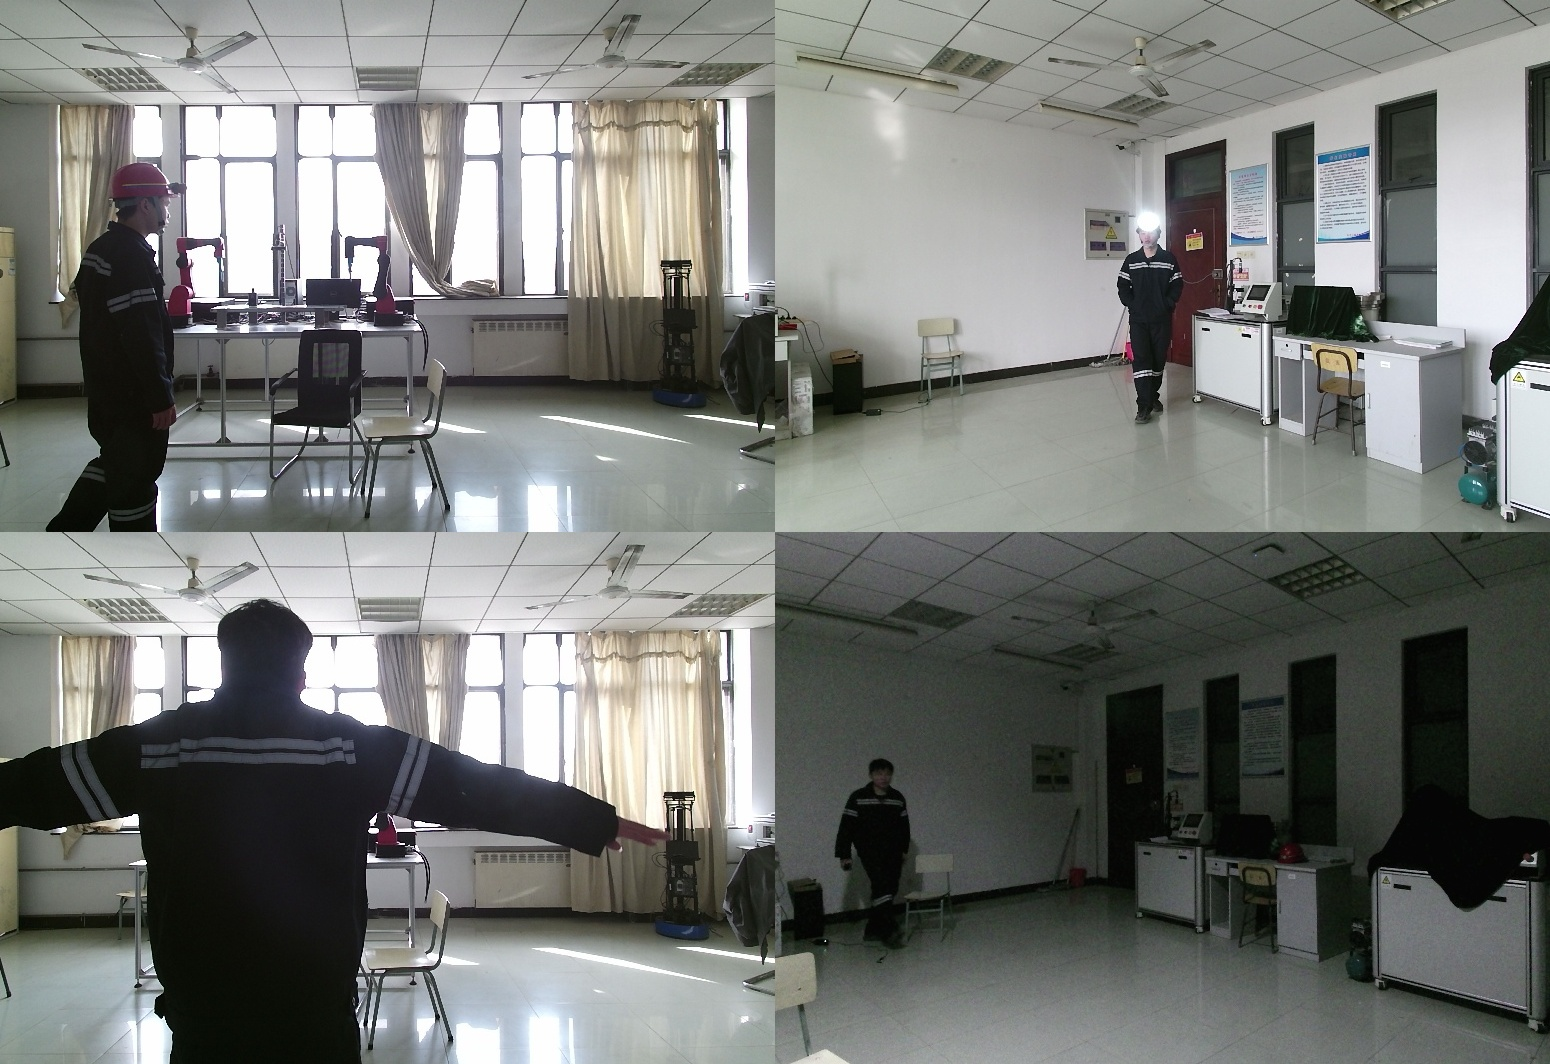person: (1, 601, 672, 1064), (46, 163, 190, 532), (1114, 221, 1189, 429), (832, 760, 911, 942)
